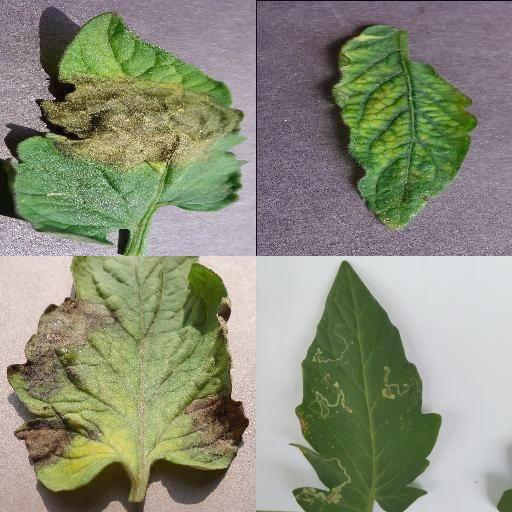Late Blight: (6, 256, 251, 494), (7, 8, 247, 250)
Leaf Miner: (291, 260, 443, 512)
Mosaic Virus: (332, 22, 476, 232)
